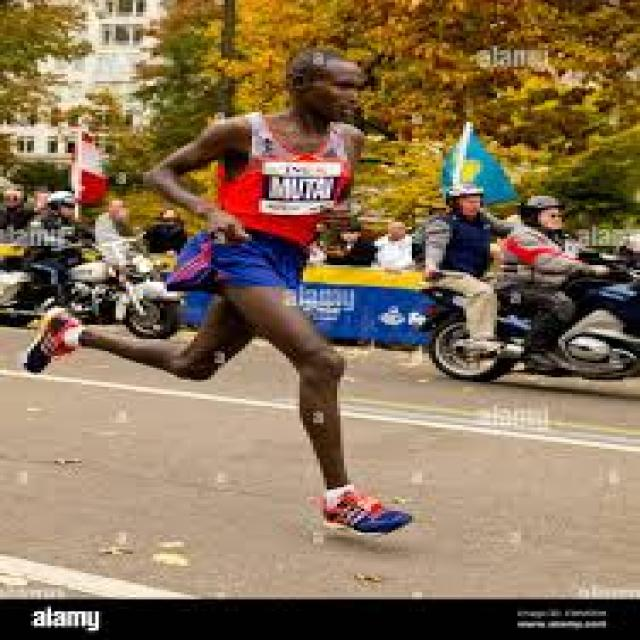running: (24, 44, 424, 538)
